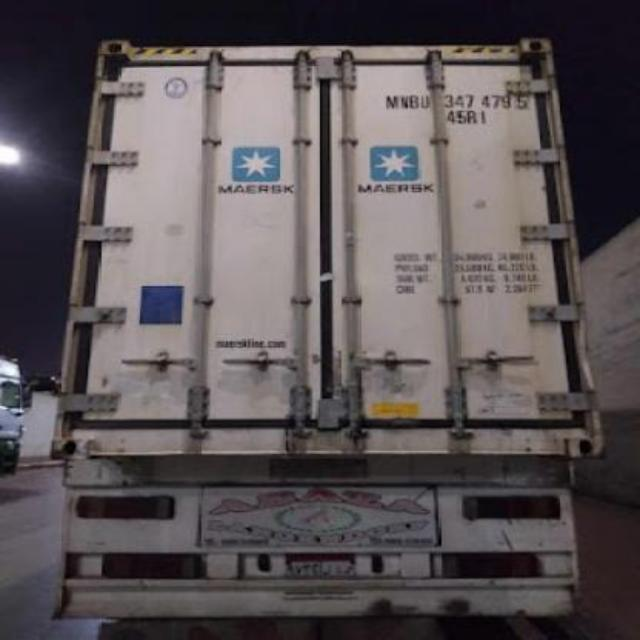3: (442, 85, 454, 109)
4: (452, 92, 464, 108), (482, 88, 490, 110)
5: (514, 88, 538, 116)
7: (462, 90, 476, 114), (490, 88, 502, 112)
9: (498, 89, 512, 115)
B: (406, 93, 418, 111)
M: (378, 93, 398, 113)
N: (398, 94, 408, 114)
U: (418, 93, 432, 111)
